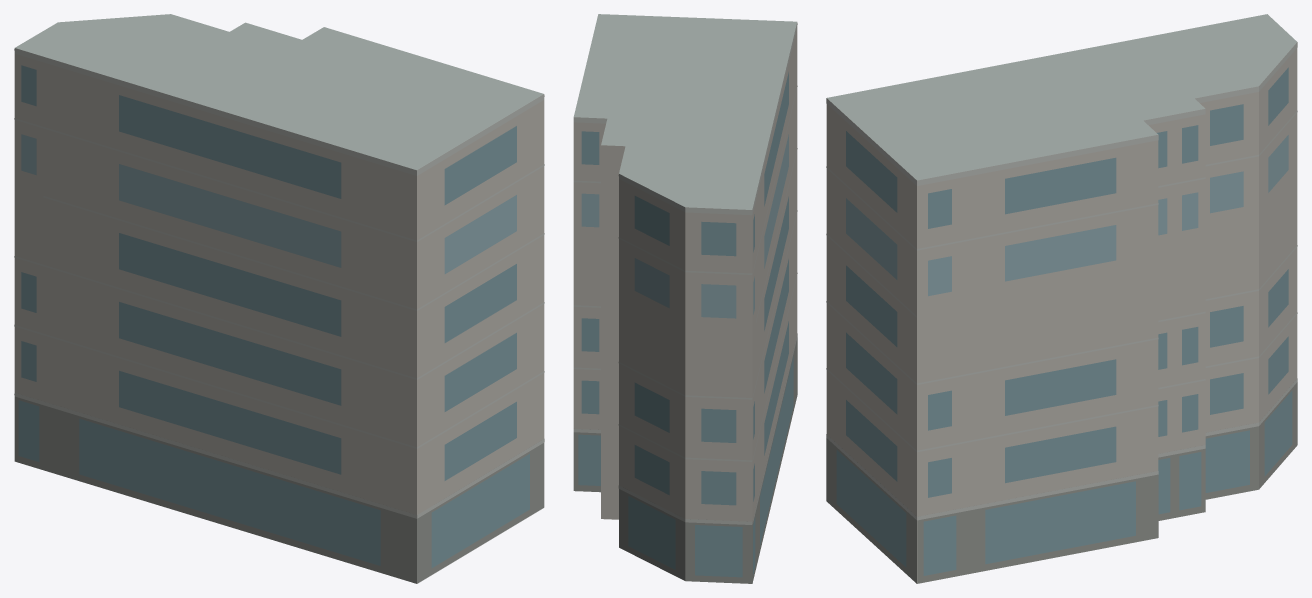
File: survey-upis-32757460.glb
The picture shows the model from 3 angles, left to right: view 1: azimuth 30°, elevation 25°; view 2: azimuth 150°, elevation 25°; view 3: azimuth 270°, elevation 25°; orthographic projection. The views are drawn at different scales.
Parts seen in each view (by area): view 1: survey-upis-32757460.tmp; view 2: survey-upis-32757460.tmp; view 3: survey-upis-32757460.tmp.
Boxes of the visible parts, x1,y1,x2,y2 form: survey-upis-32757460.tmp: (14,14,544,583); survey-upis-32757460.tmp: (573,14,797,583); survey-upis-32757460.tmp: (826,14,1297,583).
Bounding box in the file's own units: 15.62 × 17.6 × 18.65.
